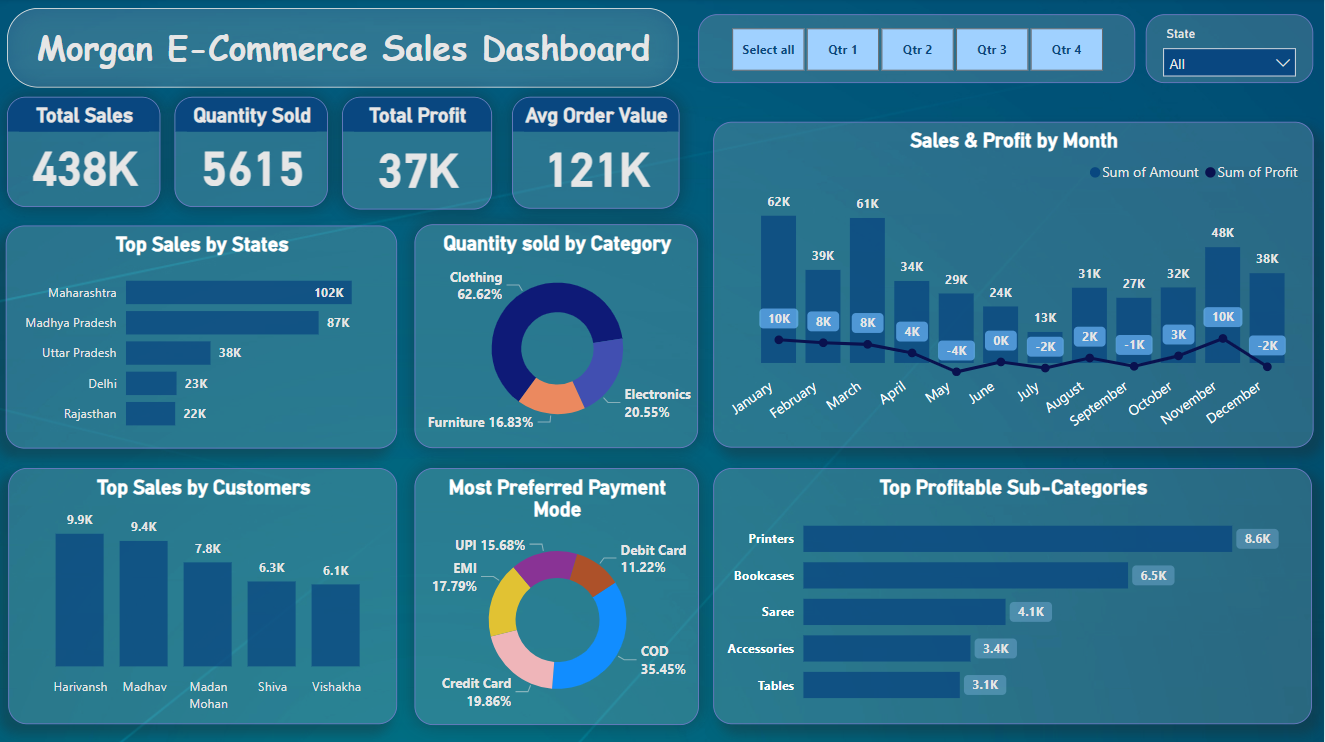

Layout of this report page (visuals, bound fields, positions):
{"tool":"powerbi","page":{"name":"Page 1","canvas":[1280,720],"ordinal":0},"visuals":[{"type":"textbox","box":[10.1,10.1,647.8,76.5],"z":0},{"type":"lineStackedColumnComboChart","title":"Sales & Profit by Month","fields":{"Y":["Details.Amount"],"Y2":["Details.Profit"],"Category":["Orders.Order Date.Variation.Date Hierarchy.Month"]},"box":[691.1,119.4,578.9,314.8],"z":1000},{"type":"barChart","title":"Top Profitable Sub-Categories","fields":{"Category":["Details.Sub-Category"],"Y":["Details.Profit"]},"box":[691.1,453.5,577.7,247.2],"z":2000},{"type":"donutChart","title":" Quantity sold by Category","fields":{"Category":["Details.Category"],"Y":["Details.Quantity"]},"box":[402.8,218.3,273.8,215.9],"z":3000},{"type":"donutChart","title":"Most Preferred Payment Mode","fields":{"Category":["Details.PaymentMode"],"Y":["Details.Amount"]},"box":[402.5,453,274.1,248.2],"z":4000},{"type":"card","title":"Total Sales","fields":{"Values":["Details.Amount"]},"box":[9.6,95.3,148.3,106.1],"z":5000},{"type":"card","title":"Quantity Sold","fields":{"Values":["Details.Quantity"]},"box":[171.3,95.3,148.3,106.1],"z":6000},{"type":"card","title":"Total Profit","fields":{"Values":["Details.Profit"]},"box":[332.9,95.3,144.7,108.5],"z":7000},{"type":"clusteredBarChart","title":"Top Sales by States","fields":{"Y":["Details.Amount"],"Category":["Orders.State","Orders.City"]},"box":[8.9,218.9,377.3,215.4],"z":8000},{"type":"clusteredColumnChart","title":"Top Sales by Customers","fields":{"Category":["Orders.CustomerName"],"Y":["Details.Amount"]},"box":[10.7,453.8,375.5,247.4],"z":9000},{"type":"slicer","fields":{"Values":["Orders.State"]},"box":[1108,15.9,161.6,66.4],"z":10000},{"type":"slicer","fields":{"Values":["Orders.Order Date.Variation.Date Hierarchy.Quarter"]},"box":[676.7,15.9,421.3,66.4],"z":11000},{"type":"card","title":"Avg Order Value","fields":{"Values":["Details.AOV"]},"box":[496.3,95.2,161.6,108.2],"z":12000}]}

Visuals, with their boxes in screenshot pixels (x1, y1, x2, y2), scaled from the page's 1280x720 canvas onto the 1325x742 screenshot:
textbox: Rect(10, 10, 681, 89)
"Sales & Profit by Month" lineStackedColumnComboChart: Rect(715, 123, 1315, 447)
"Top Profitable Sub-Categories" barChart: Rect(715, 467, 1313, 722)
" Quantity sold by Category" donutChart: Rect(417, 225, 700, 447)
"Most Preferred Payment Mode" donutChart: Rect(417, 467, 700, 723)
"Total Sales" card: Rect(10, 98, 163, 208)
"Quantity Sold" card: Rect(177, 98, 331, 208)
"Total Profit" card: Rect(345, 98, 494, 210)
"Top Sales by States" clusteredBarChart: Rect(9, 226, 400, 448)
"Top Sales by Customers" clusteredColumnChart: Rect(11, 468, 400, 723)
slicer - Orders.State: Rect(1147, 16, 1314, 85)
slicer - Orders.Order Date.Variation.Date Hierarchy.Quarter: Rect(700, 16, 1137, 85)
"Avg Order Value" card: Rect(514, 98, 681, 210)
